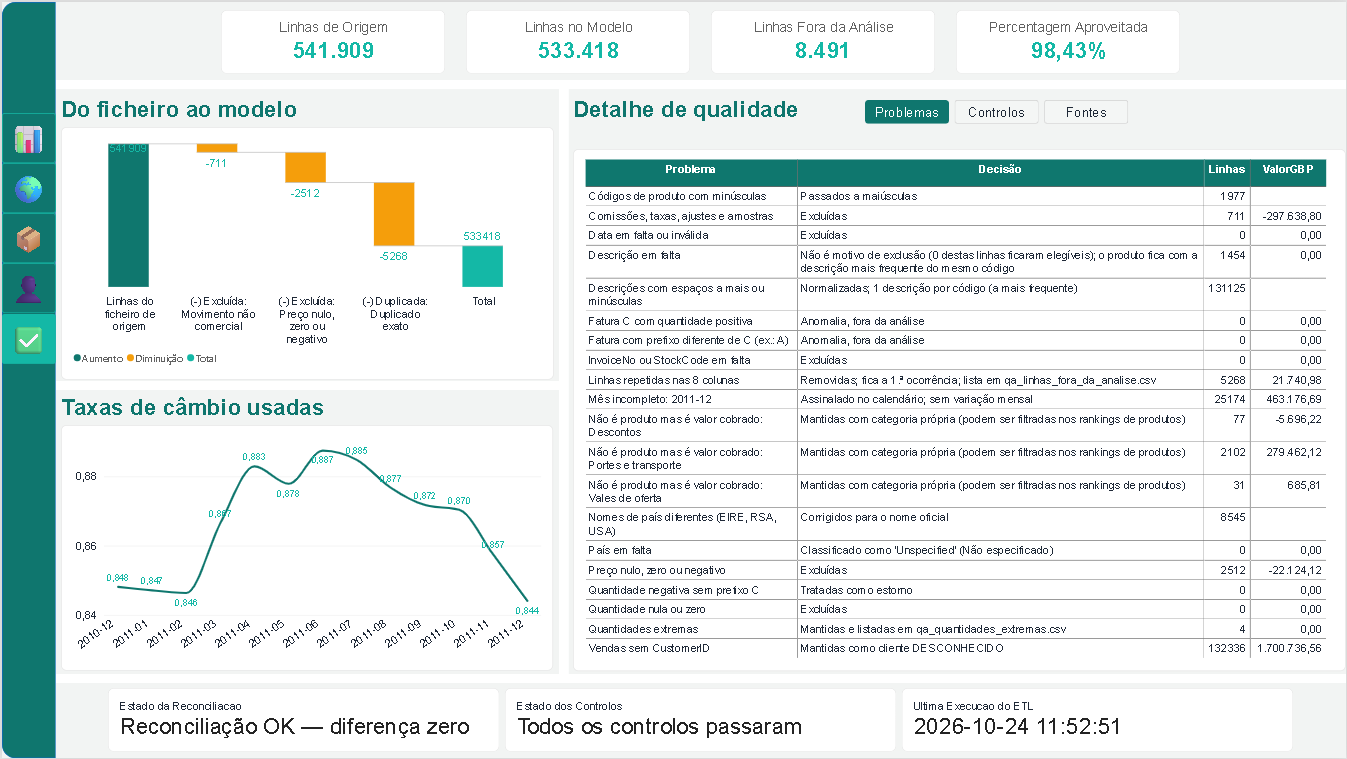

This screenshot's page, from the dashboard's own definition file:
{"tool":"powerbi","page":{"name":"Qualidade e Metodologia","canvas":[1920,1080],"ordinal":4},"visuals":[{"type":"textbox","box":[992.9,21.9,927.1,30.2],"z":0},{"type":"pageNavigator","box":[15,15,971.7,96.7],"z":1000},{"type":"cardVisual","title":"Linhas de Origem","fields":{"Data":["_MedidasQa.Texto Linhas Origem"]},"box":[0,130.3,292.1,111.1],"z":2000},{"type":"cardVisual","title":"Estado dos controlos","fields":{"Data":["_MedidasQa.Estado dos Controlos"]},"box":[1324.7,164.9,595.9,103.7],"z":3000},{"type":"cardVisual","title":"Percentagem Aproveitada","fields":{"Data":["_MedidasQa.Percentagem Aproveitada"]},"box":[913.4,130.3,366.2,111.1],"z":4000},{"type":"cardVisual","title":"Linhas Fora do Modelo","fields":{"Data":["_MedidasQa.Texto Fora Modelo"]},"box":[584.2,130.3,329.1,111.1],"z":5000},{"type":"cardVisual","title":"Estado da reconciliação","fields":{"Data":["_MedidasQa.Estado da Reconciliacao"]},"box":[1324.8,59,595.2,104.2],"z":6000},{"type":"cardVisual","title":"Linhas no Modelo","fields":{"Data":["_MedidasQa.Texto Linhas Modelo"]},"box":[292.1,130.3,292.1,111.1],"z":7000},{"type":"shape","box":[1154.7,278.4,765.3,426.5],"z":8000},{"type":"tableEx","title":"Reconciliação: da origem ao modelo (GBP)","fields":{"Values":["qa_reconciliacao.Ordem","qa_reconciliacao.Etapa","qa_reconciliacao.Linhas","qa_reconciliacao.ValorGBP"]},"box":[1180.8,299,713.1,386.7],"z":9000},{"type":"shape","box":[593.8,704.9,1326.2,375.8],"z":10000},{"type":"tableEx","title":"Problemas encontrados e decisões tomadas","fields":{"Values":["qa_problemas_decisoes.Problema","qa_problemas_decisoes.Decisao","qa_problemas_decisoes.Justificacao","qa_problemas_decisoes.Linhas","qa_problemas_decisoes.ValorGBP"]},"box":[610.3,725.5,1293.3,333.3],"z":11000},{"type":"shape","box":[0,279.8,593.8,566.4],"z":12000},{"type":"tableEx","title":"Cobertura das taxas de câmbio (13 meses)","fields":{"Values":["qa_cobertura_cambio.AnoMes","qa_cobertura_cambio.Estado","qa_cobertura_cambio.Linhas","qa_cobertura_cambio.TaxaGBPporEUR","qa_cobertura_cambio.ValorEUR","qa_cobertura_cambio.ValorGBP"]},"box":[21.9,300.3,552.7,522.5],"z":13000},{"type":"shape","box":[593.8,279.8,560.9,326.4],"z":14000},{"type":"tableEx","title":"Fontes de dados","fields":{"Values":["qa_fontes.Autor","qa_fontes.DataObtencao","qa_fontes.Download","qa_fontes.Fonte","qa_fontes.Metodo","qa_fontes.Licenca","qa_fontes.Pagina","qa_fontes.Periodo"]},"box":[606.2,301.7,536.2,282.5],"z":15000},{"type":"cardVisual","title":"Última execução","fields":{"Data":["_MedidasQa.Ultima Execucao"]},"box":[15.1,925.7,399.1,133],"z":16000}]}

Visuals, with their boxes on the page's 1920x1080 design canvas (x1, y1, x2, y2). These are canvas units, not pixel positions in the 1347x759 screenshot, which may show the page scaled, cropped or inside an application window:
textbox: 993,22,1920,52
pageNavigator: 15,15,987,112
"Linhas de Origem" cardVisual: 0,130,292,241
"Estado dos controlos" cardVisual: 1325,165,1921,269
"Percentagem Aproveitada" cardVisual: 913,130,1280,241
"Linhas Fora do Modelo" cardVisual: 584,130,913,241
"Estado da reconciliação" cardVisual: 1325,59,1920,163
"Linhas no Modelo" cardVisual: 292,130,584,241
shape: 1155,278,1920,705
"Reconciliação: da origem ao modelo (GBP)" tableEx: 1181,299,1894,686
shape: 594,705,1920,1081
"Problemas encontrados e decisões tomadas" tableEx: 610,726,1904,1059
shape: 0,280,594,846
"Cobertura das taxas de câmbio (13 meses)" tableEx: 22,300,575,823
shape: 594,280,1155,606
"Fontes de dados" tableEx: 606,302,1142,584
"Última execução" cardVisual: 15,926,414,1059
